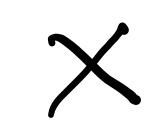mult: (48, 21, 141, 118)
